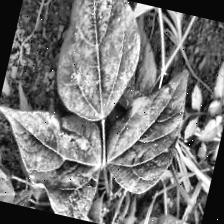ALS: (114, 46, 205, 187), (0, 100, 105, 220), (51, 0, 140, 112)
